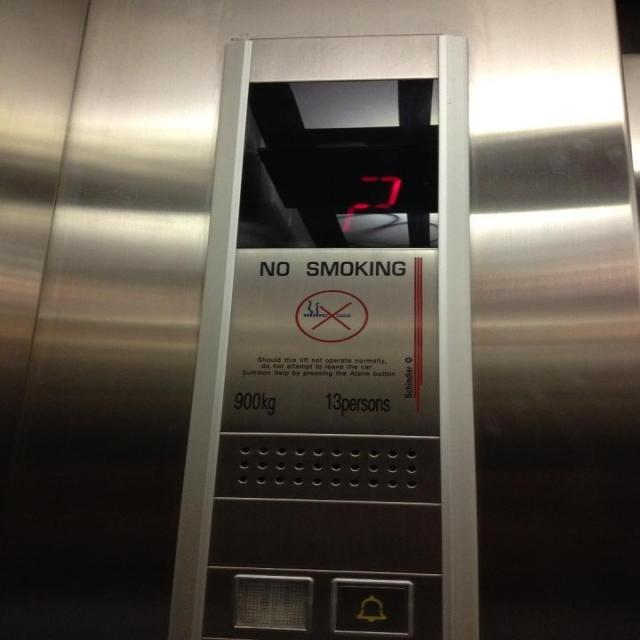alarm: (328, 574, 417, 636)
empty: (230, 572, 318, 634)
led: (235, 70, 445, 253)
